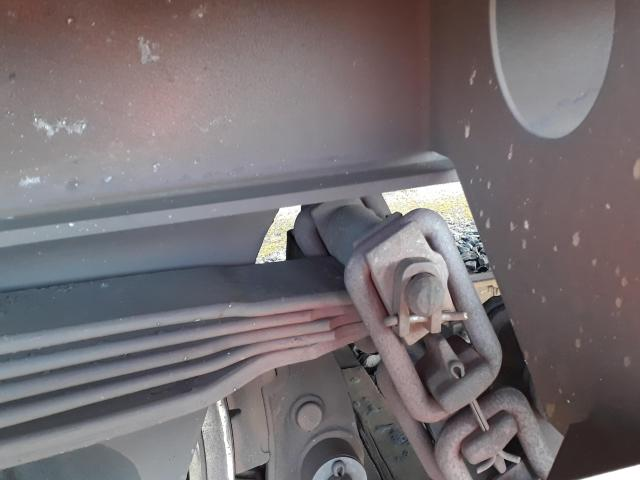blattfederww: (1, 258, 342, 452)
